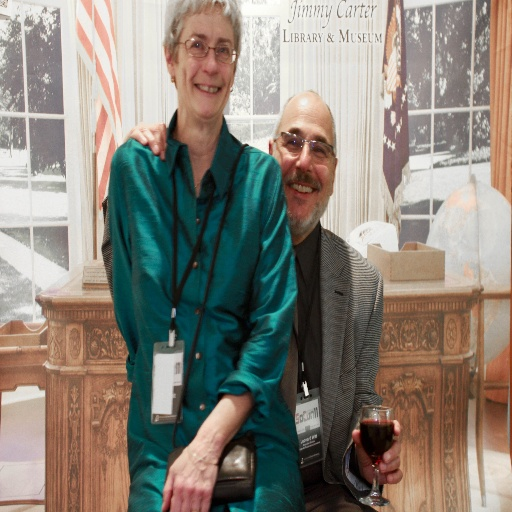hand: (161, 438, 219, 511), (352, 419, 404, 488), (125, 113, 170, 157)
